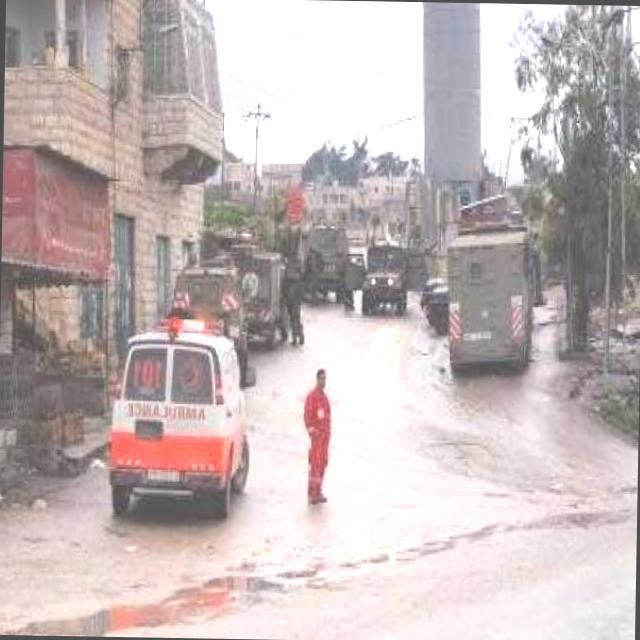emergency-vehicle: (104, 310, 260, 520)
